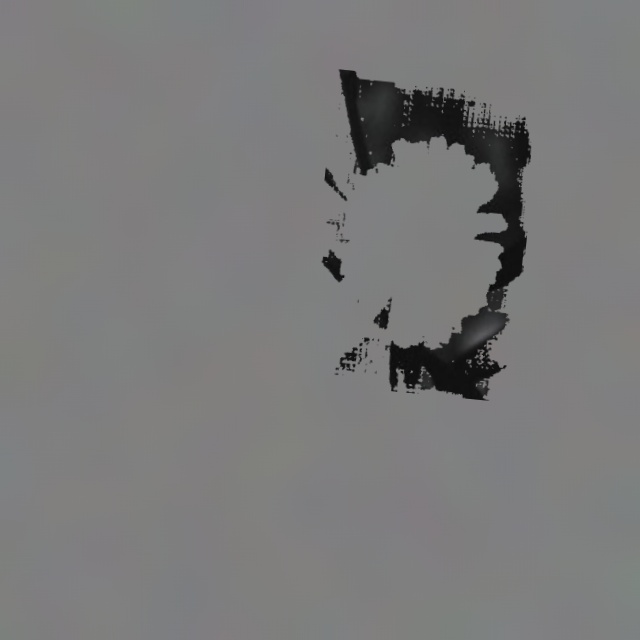daisy: (322, 70, 530, 399)
